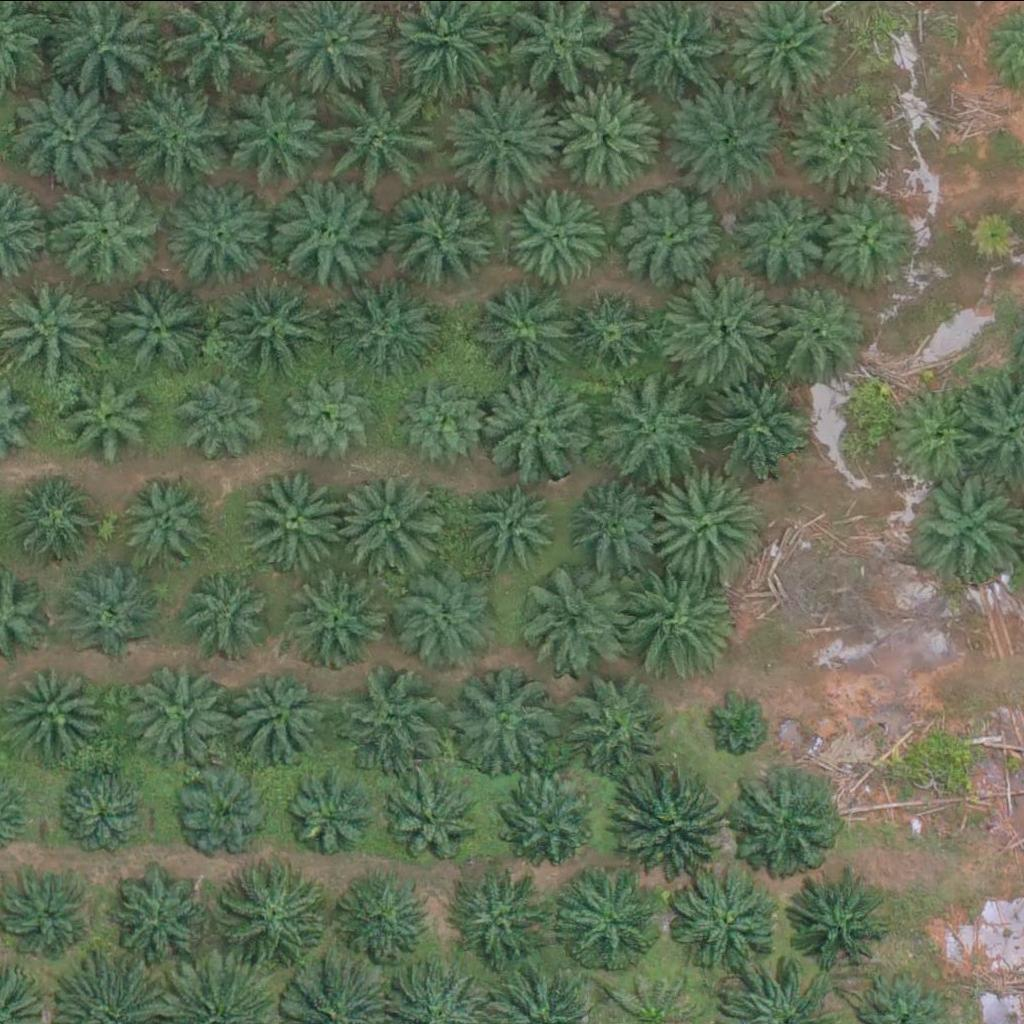Kelapa_Sawit: (454, 78, 568, 191), (280, 184, 393, 297), (585, 376, 698, 489), (702, 363, 815, 476), (649, 469, 762, 582), (390, 564, 503, 677), (509, 564, 622, 677), (623, 572, 736, 685), (450, 667, 563, 780), (619, 768, 732, 881), (13, 79, 126, 192), (1, 267, 114, 380), (787, 87, 901, 199), (483, 374, 597, 486), (283, 564, 397, 676), (669, 861, 783, 973), (215, 270, 329, 382), (124, 655, 238, 767), (676, 79, 789, 191), (549, 79, 662, 191), (324, 72, 437, 184), (385, 187, 498, 299), (333, 269, 446, 381), (473, 272, 586, 384), (661, 272, 774, 384), (336, 461, 449, 573), (333, 661, 446, 773), (735, 767, 848, 879), (212, 81, 325, 193), (121, 82, 234, 194), (168, 175, 281, 287), (237, 466, 350, 578), (228, 858, 341, 970), (511, 185, 612, 285), (623, 185, 724, 285), (732, 183, 833, 283), (771, 288, 872, 388), (568, 475, 669, 575), (455, 471, 556, 571), (888, 382, 989, 482), (569, 671, 670, 771), (501, 774, 602, 874), (63, 179, 164, 279), (107, 283, 208, 383), (115, 473, 216, 573), (184, 561, 285, 661), (176, 761, 277, 861), (116, 869, 217, 969), (818, 183, 918, 283), (788, 872, 888, 972), (459, 868, 559, 968), (560, 875, 660, 975), (74, 563, 174, 663), (10, 658, 110, 758), (231, 665, 331, 765), (55, 760, 155, 860), (569, 292, 657, 380), (399, 375, 487, 463), (388, 775, 476, 863), (342, 878, 430, 966), (64, 372, 152, 460), (184, 367, 272, 455), (9, 479, 97, 567), (285, 772, 373, 860), (289, 373, 377, 460), (698, 686, 773, 761)
